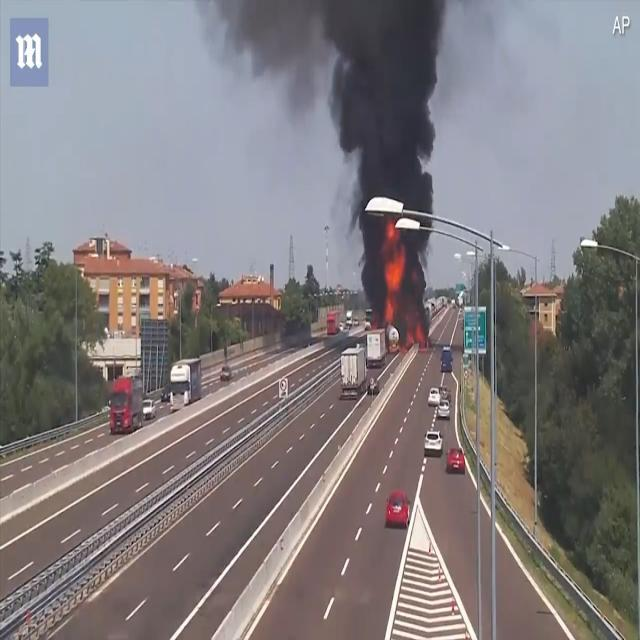Fire: (384, 220, 406, 322)
Smoke: (220, 0, 444, 341)
